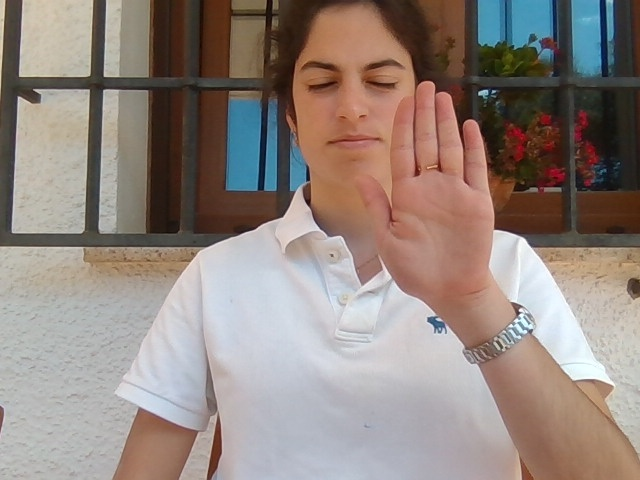Hello: (334, 73, 514, 307)
